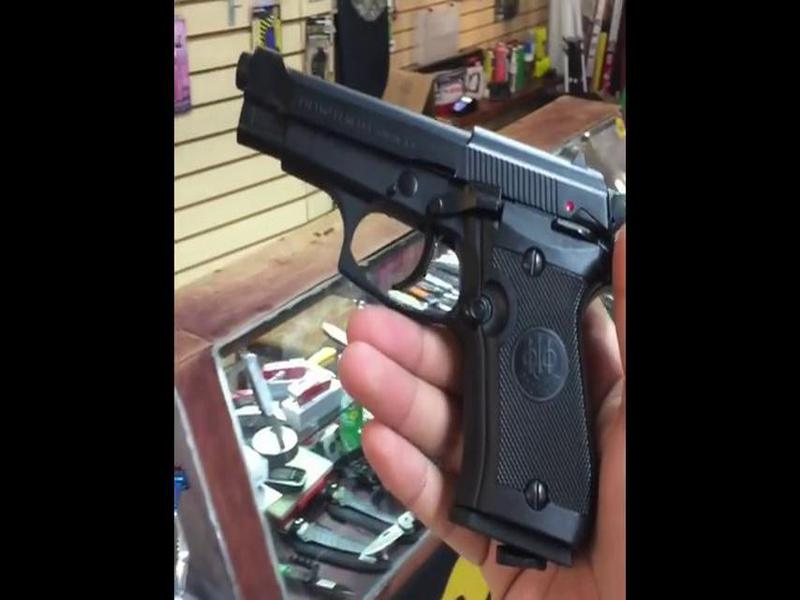Pistola: (230, 34, 624, 558)
